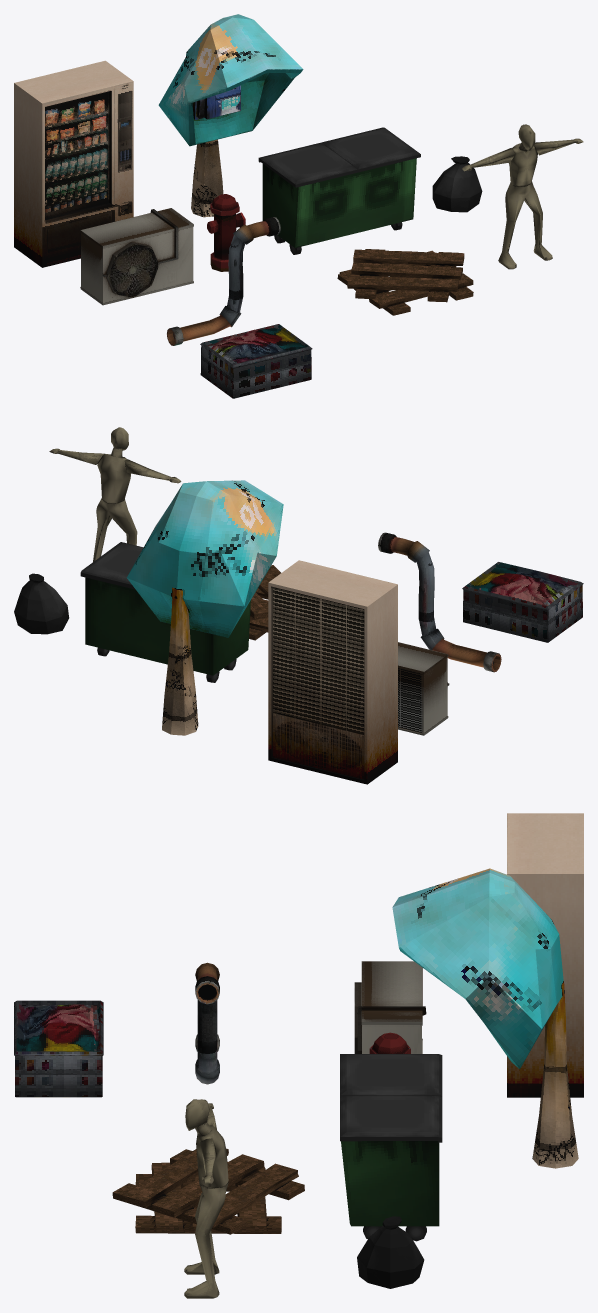
File: asset_no_estilo_de_ps1_v3.glb
3 renders of one model, top to bottom at view 1: azimuth 30°, elevation 25°; view 2: azimuth 150°, elevation 25°; view 3: azimuth 270°, elevation 25°, orthographic. The views are drawn at different scales.
Parts seen in each view (by area): view 1: Maquina de venda_13, p2_15, Cube.001_1, ar condicionado_6, cesto_8, Plane_3, madeira.001_10, Manequim_12, cano_7, sacola de lixo_0, p1_14, hidrante_5 (+2 smaller); view 2: Maquina de venda_13, p2_15, Cube.001_1, cesto_8, ar condicionado_6, Manequim_12, p1_14, cano_7, sacola de lixo_0, Plane_3, madeira.001_10; view 3: p2_15, Maquina de venda_13, Plane_3, cesto_8, Cube.001_1, madeira.001_10, ar condicionado_6, Manequim_12, p1_14, sacola de lixo_0, cano_7, madeira_9 (+1 smaller).
Part boxes in pixels (x1,y1,x2,y2): Maquina de venda_13: [14, 60, 133, 267]; p2_15: [158, 14, 303, 146]; Cube.001_1: [262, 158, 416, 247]; ar condicionado_6: [80, 208, 193, 305]; cesto_8: [200, 324, 312, 398]; Plane_3: [258, 127, 420, 187]; madeira.001_10: [347, 249, 464, 302]; Manequim_12: [462, 124, 583, 269]; cano_7: [167, 217, 280, 345]; sacola de lixo_0: [432, 156, 482, 212]; p1_14: [191, 139, 223, 217]; hidrante_5: [207, 194, 245, 271]; Maquina de venda_13: [268, 560, 397, 784]; p2_15: [126, 480, 283, 637]; Cube.001_1: [85, 577, 250, 675]; cesto_8: [462, 562, 583, 642]; ar condicionado_6: [398, 642, 449, 735]; Manequim_12: [49, 427, 181, 561]; p1_14: [162, 587, 198, 735]; cano_7: [378, 532, 501, 672]; sacola de lixo_0: [14, 573, 69, 634]; Plane_3: [80, 542, 143, 589]; madeira.001_10: [250, 565, 280, 620]; p2_15: [392, 868, 564, 1068]; Maquina de venda_13: [507, 813, 583, 1097]; Plane_3: [340, 1054, 442, 1142]; cesto_8: [14, 1000, 103, 1097]; Cube.001_1: [341, 1141, 439, 1226]; madeira.001_10: [112, 1148, 304, 1234]; ar condicionado_6: [354, 961, 426, 1053]; Manequim_12: [184, 1099, 228, 1298]; p1_14: [532, 981, 578, 1168]; sacola de lixo_0: [357, 1216, 424, 1288]; cano_7: [195, 962, 219, 1084]; madeira_9: [135, 1162, 281, 1233].
Size of the model in its own units: 15.41 by 7.25 by 12.98.
14 materials, 14 textured.
